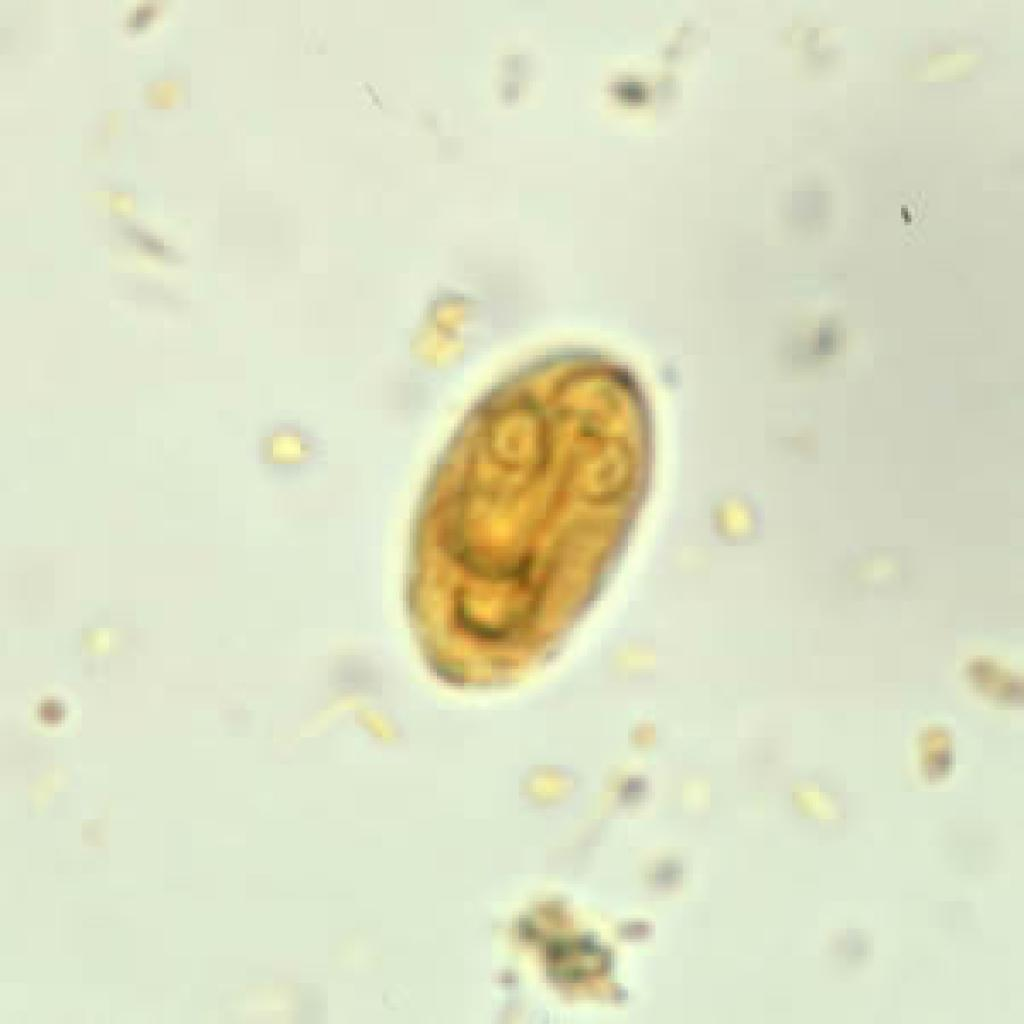Giardia: (382, 331, 672, 700)
